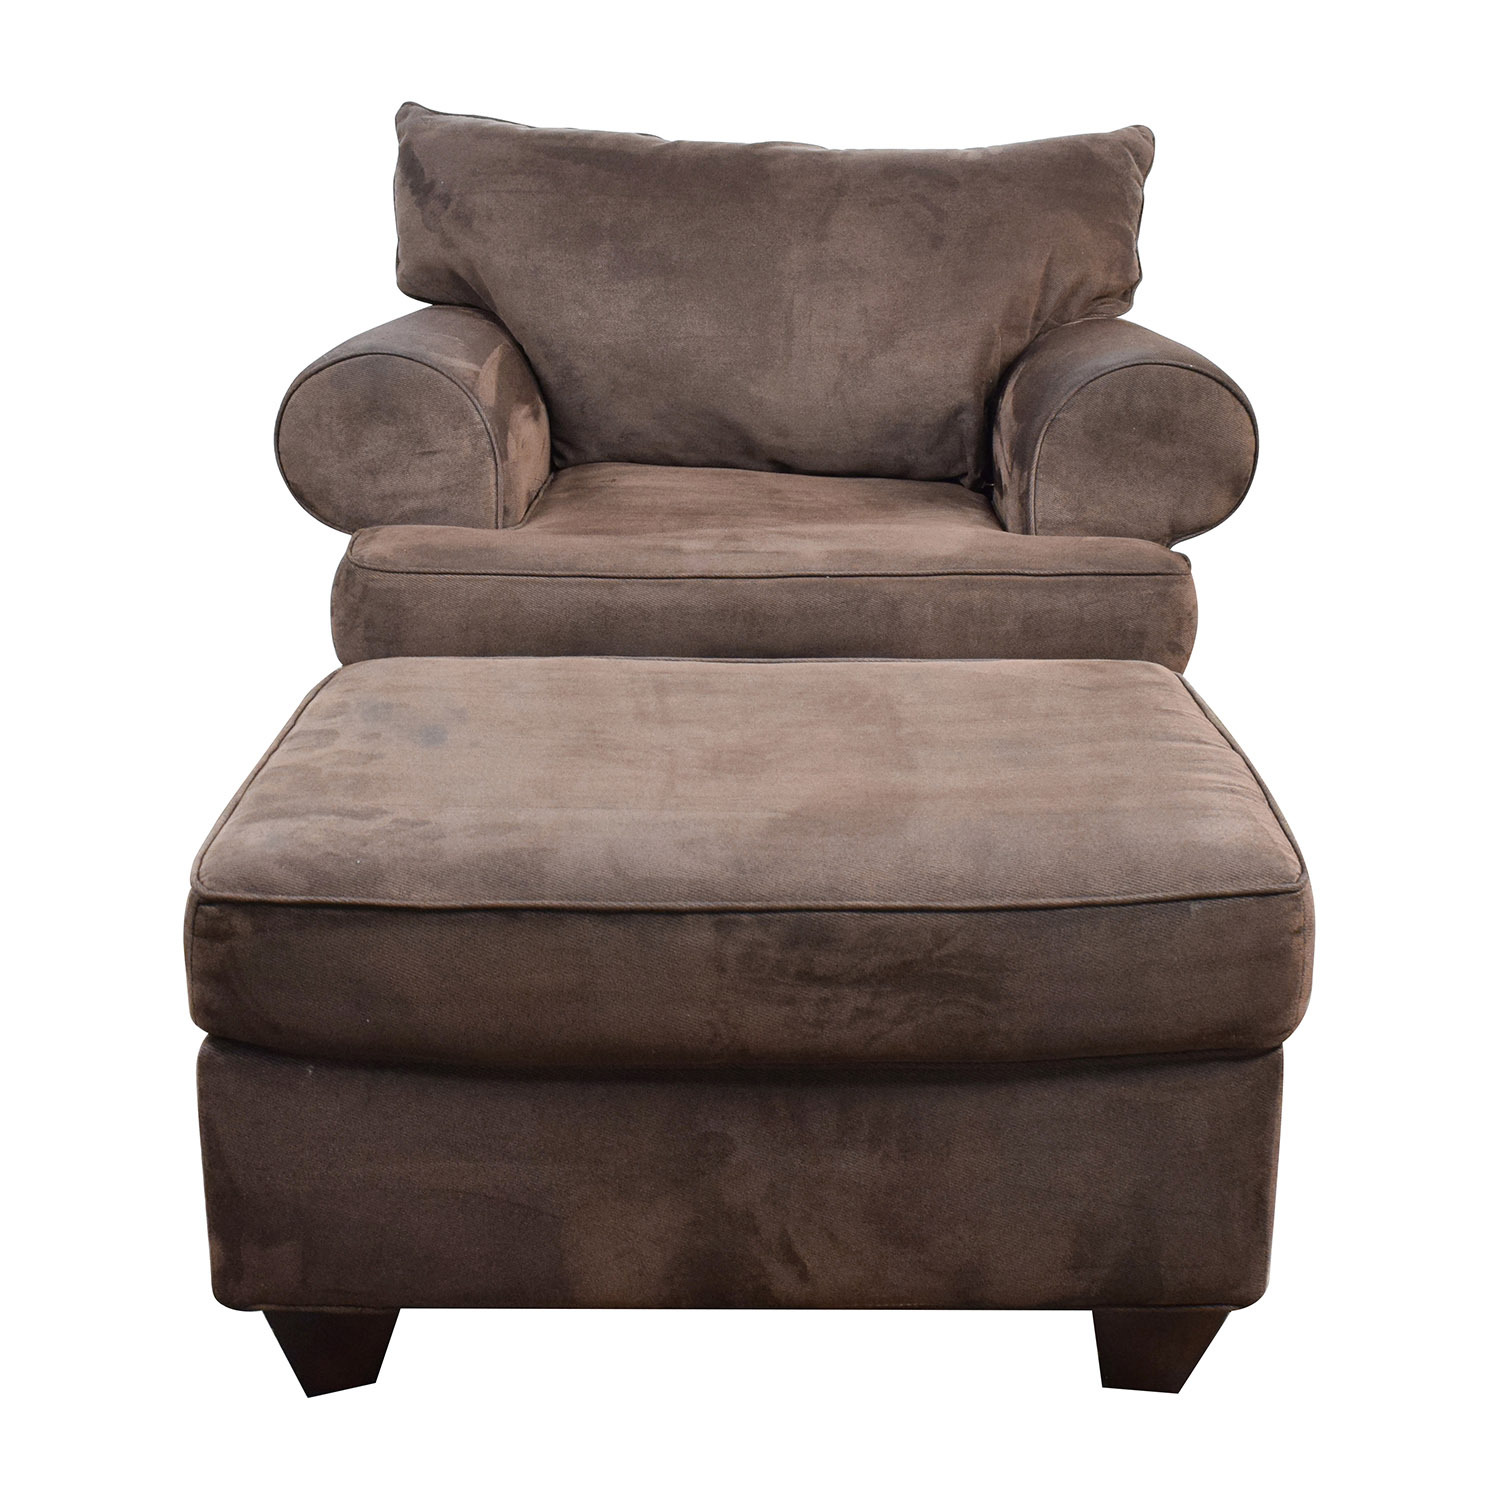chairs: (172, 644, 1321, 1407), (276, 98, 1262, 724)
